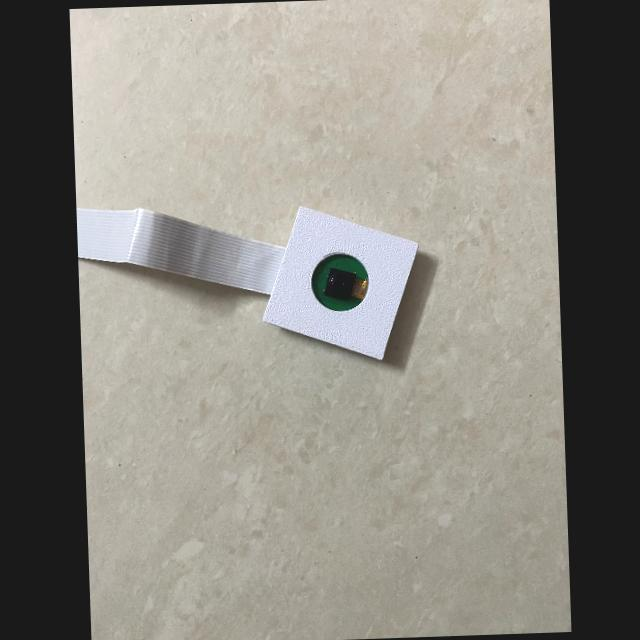RASPBERY PI CAM ENCLOSURE: (259, 202, 422, 364)
